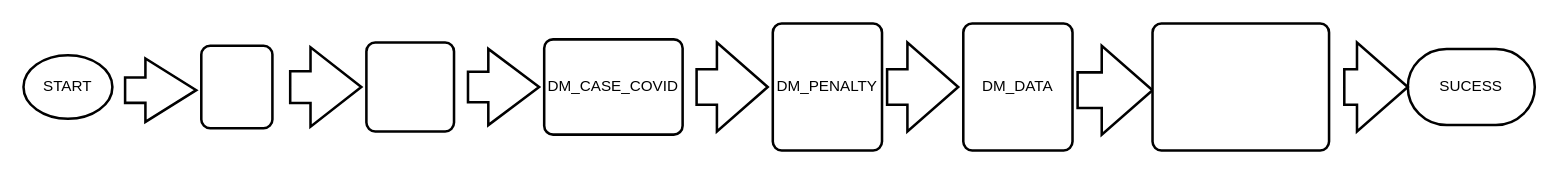
Some shapes in this 1557 by 173 pixel diagram are drawn without their labels. The centre of each missing label's shape, as x and y in pixels:
"BUSCA FATO" belongs at pixel 236 86.
"DM_LOCAL" belongs at pixel 409 86.
"FATO_COVID_PENALTY" belongs at pixel 1240 86.
